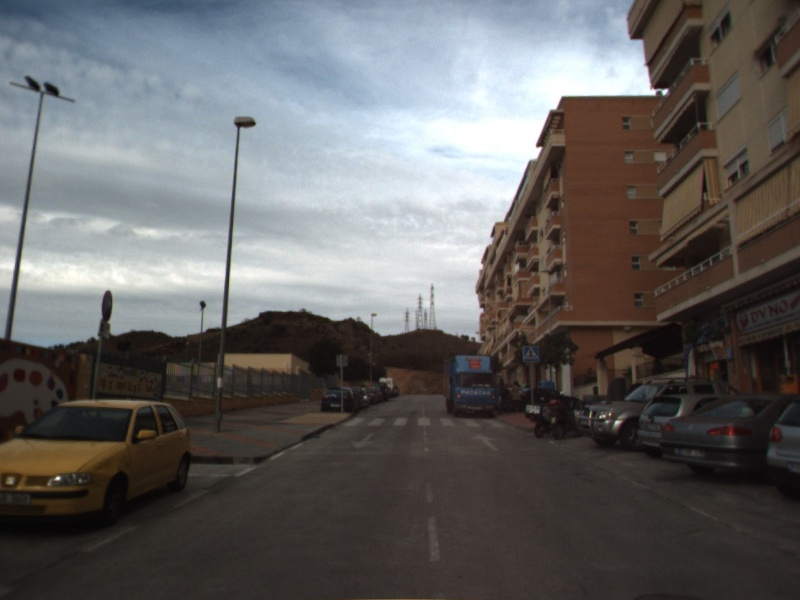STRAIGHT: (469, 431, 501, 453)
